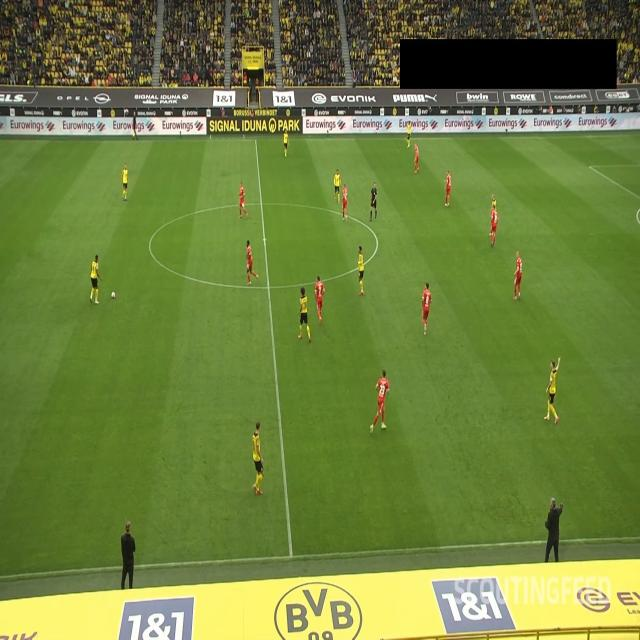ball: (110, 291, 116, 300)
